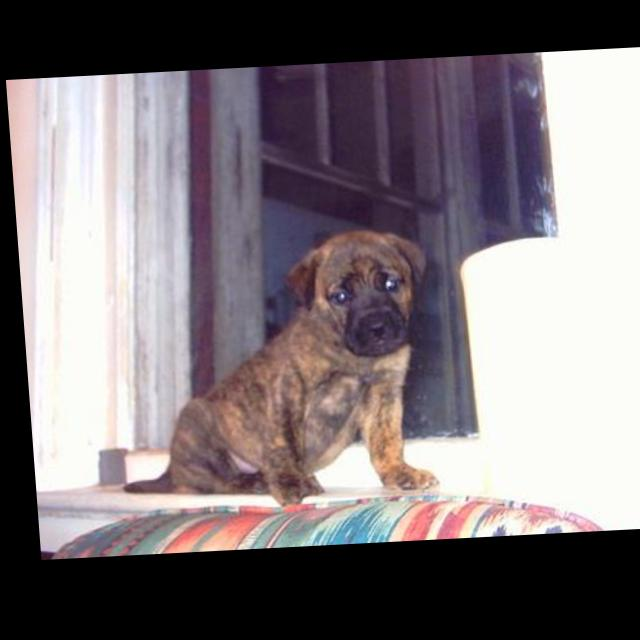bullmastiff: (101, 231, 437, 517)
